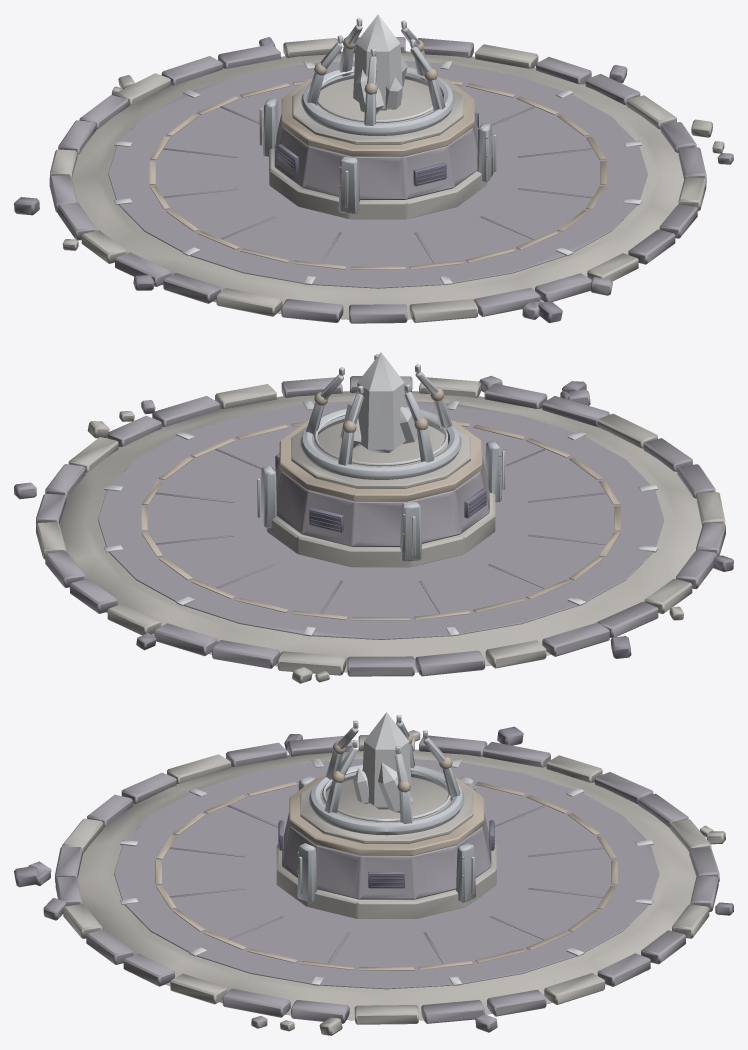
Rendered from holdstone.glb.
The picture shows the model from 3 angles, top to bottom: view 1: azimuth 30°, elevation 25°; view 2: azimuth 150°, elevation 25°; view 3: azimuth 270°, elevation 25°; orthographic projection. The views are drawn at different scales.
Visible parts, largest first — view 1: main, crystal; view 2: main, crystal; view 3: main, crystal.
Boxes of the visible parts, x1,y1,x2,y2 form: main: (14,18,733,323); crystal: (353,14,407,115); main: (14,354,733,683); crystal: (340,352,417,452); main: (14,715,733,1035); crystal: (353,712,412,812).
Bounding box in the file's own units: 17.43 × 4.77 × 17.69.
